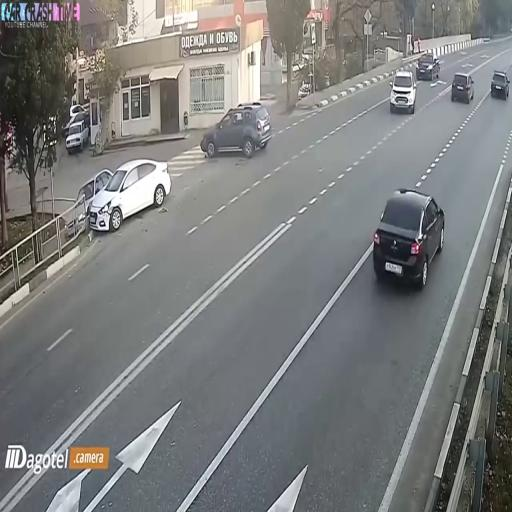小汽车: (374, 182, 446, 284), (198, 100, 271, 160), (388, 64, 418, 113), (62, 120, 92, 152), (416, 46, 442, 80), (449, 70, 475, 104), (489, 65, 512, 101)
小汽车撞小汽车: (66, 158, 170, 235)
